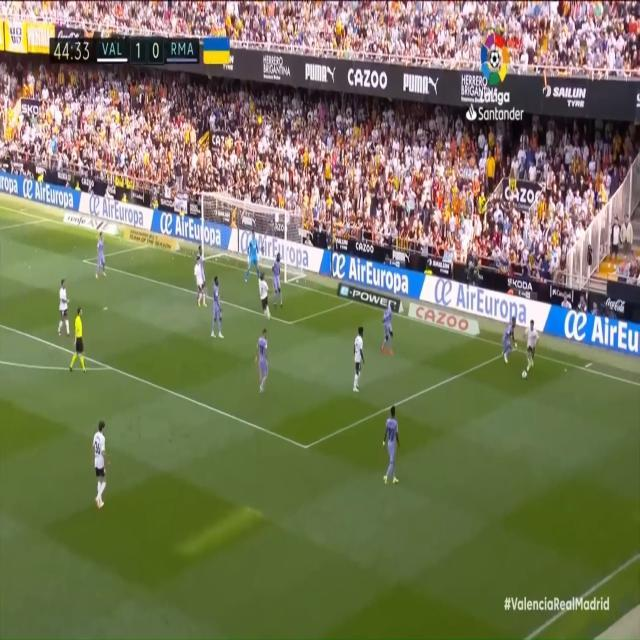ball: (521, 365, 529, 383)
goalkeeper: (247, 230, 263, 282)
player: (90, 414, 116, 520), (379, 399, 404, 489), (255, 327, 279, 407), (347, 318, 372, 393), (209, 271, 229, 358), (55, 278, 75, 342), (503, 303, 518, 377), (379, 301, 395, 365), (96, 230, 112, 291), (524, 318, 540, 374), (271, 253, 285, 316), (258, 272, 273, 323), (194, 256, 207, 313), (197, 237, 210, 287)
referee: (71, 310, 90, 387)
